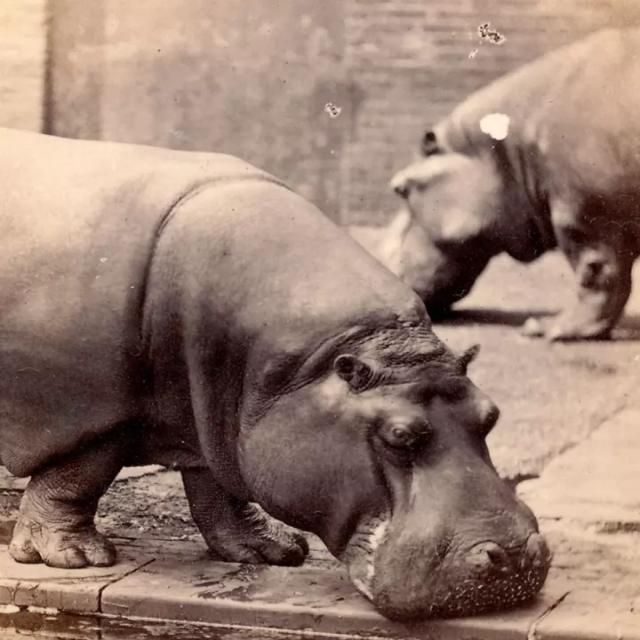Hippopotamus: (0, 126, 563, 616), (364, 19, 640, 340)
